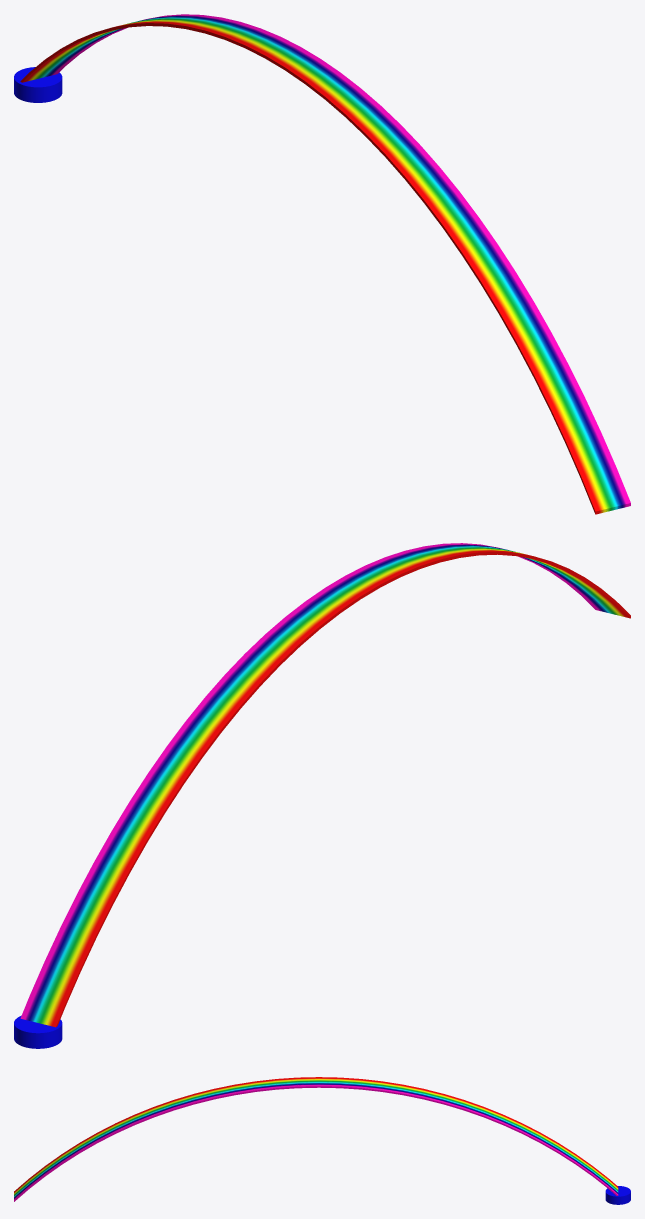
File: Rainbow.fbx
3 renders of one model, top to bottom at view 1: azimuth 30°, elevation 25°; view 2: azimuth 150°, elevation 25°; view 3: azimuth 270°, elevation 25°, orthographic. The views are drawn at different scales.
Parts seen in each view (by area): view 1: polySurface3; view 2: polySurface3; view 3: polySurface3.
Boxes of the visible parts, box(x1,y1,x2,y2) form: polySurface3: box(14, 14, 630, 514); polySurface3: box(14, 543, 630, 1048); polySurface3: box(14, 1077, 630, 1204).
Bounding box in the file's own units: 0.042 × 0.2148 × 1.02.
2 materials, 1 textured.
